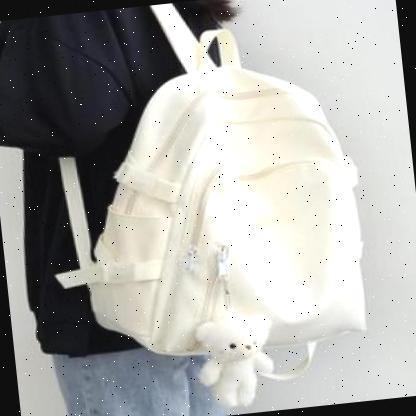bag: (40, 17, 394, 412)
